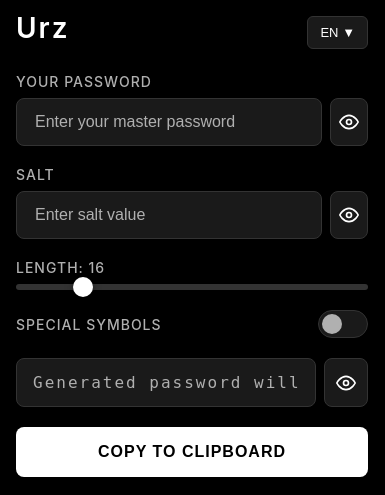
Test: Password Generator App › should copy result to clipboard when copy button is clicked
// Set values to trigger generation
Type "test" into the password field with placeholder "Enter your master password" at (169, 122), box [16, 98, 322, 146]
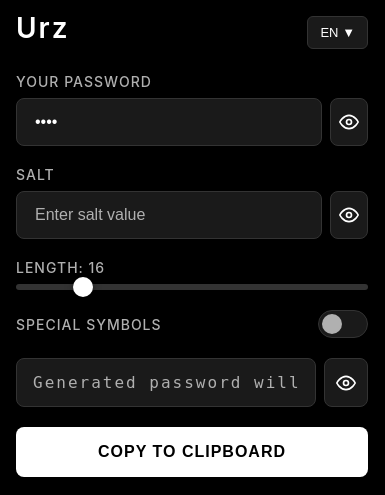
Type "salt" into the password field with placeholder "Enter salt value" at (169, 215), box [16, 191, 322, 239]
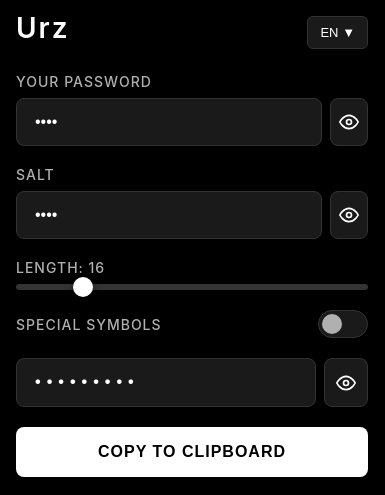
// Click copy button
Click the button "Copy to Clipboard" at (192, 452), box [16, 427, 368, 477]
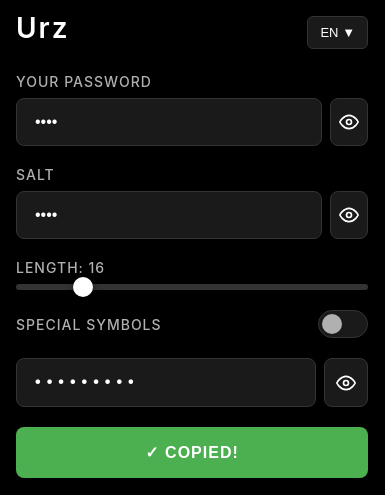
Now the button "✓ Copied!" is shown, box [16, 427, 368, 478]
